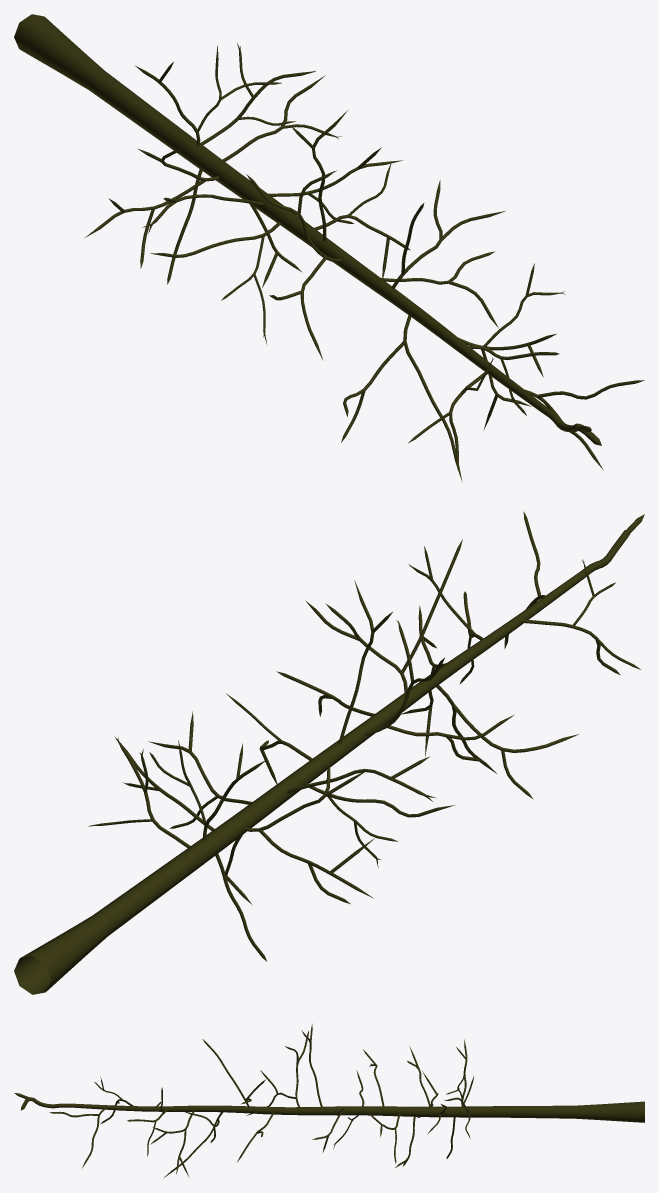
The model's file is tree.obj.
3 renders of one model, top to bottom at view 1: azimuth 30°, elevation 25°; view 2: azimuth 150°, elevation 25°; view 3: azimuth 270°, elevation 25°, orthographic. The views are drawn at different scales.
Parts seen in each view (by area): view 1: tree; view 2: tree; view 3: tree.
Part boxes in pixels (left/top/right/bottom): tree: left=14, top=14, right=644, bottom=481; tree: left=14, top=511, right=644, bottom=994; tree: left=14, top=1024, right=644, bottom=1177.
Bounding box in the file's own units: 0.6749 × 0.65 × 2.44.
